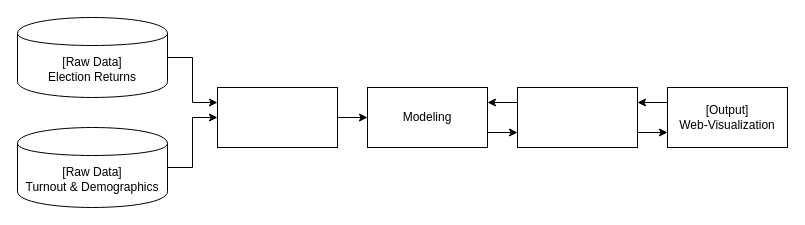
This 805x225 diagram has some shape labels left out. Each missing label, with the centre of its shape:
"Data Processor" goes at [277,117].
"Map Manager" goes at [577,117].
